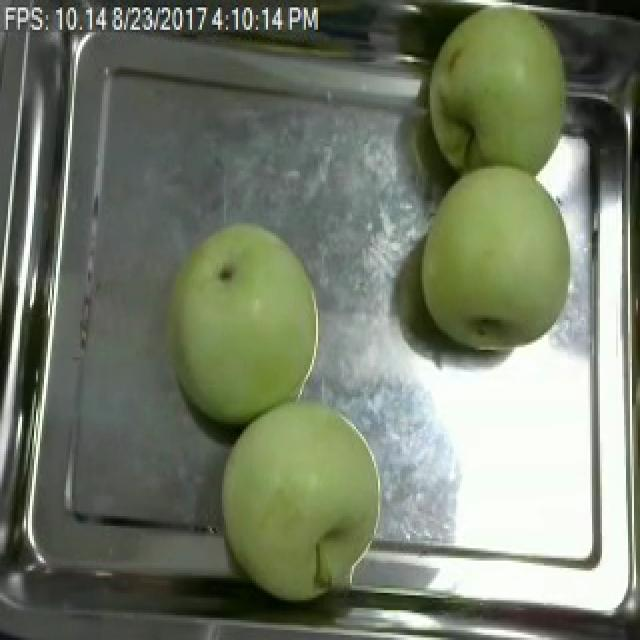50-_ripeness: (219, 384, 395, 598), (163, 214, 323, 419), (412, 1, 599, 175), (419, 170, 579, 368)
